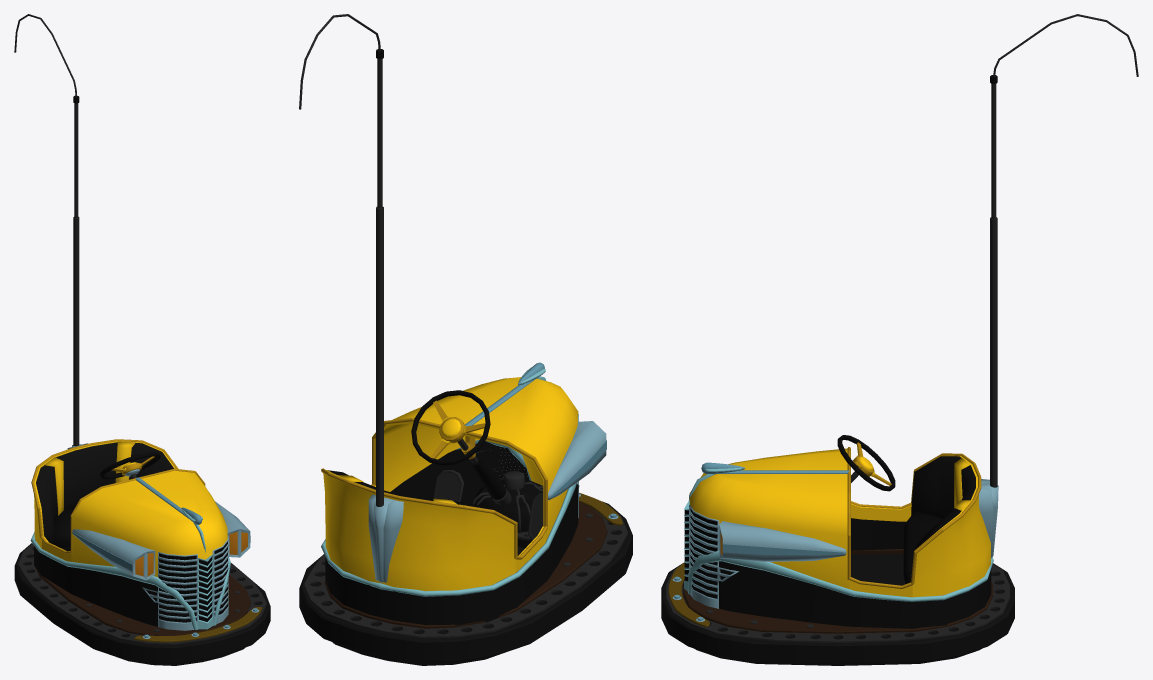
Rendered from bumper-car.obj.
3 views of the same model, side by side, from view 1: azimuth 30°, elevation 25°; view 2: azimuth 150°, elevation 25°; view 3: azimuth 270°, elevation 25° (orthographic). The views are drawn at different scales.
Parts seen in each view (by area): view 1: Box016_car456_0, Box011_hj_0, Box036_05_-_Default_0, Box023_hj_0, Line007_04_-_Default_0, Box010_12_-_Car_Paint_0, Box019_85134_0, Cylinder017_04_-_Default_0, Box031_85134_0, Loft001_656321_0, Box037_02_-_Default_0, Box043_Ce56_0 (+13 smaller); view 2: Box015_car456_0, Box016_car456_0, Box036_05_-_Default_0, Box011_hj_0, Line007_04_-_Default_0, Box010_12_-_Car_Paint_0, Cylinder017_04_-_Default_0, Box014_85134_0, Box031_85134_0, Loft001_656321_0, Cylinder024_03_-_Default_0, Shape003_03_-_Default_0 (+8 smaller); view 3: Box016_car456_0, Box036_05_-_Default_0, Box011_hj_0, Box015_car456_0, Line007_04_-_Default_0, Box010_12_-_Car_Paint_0, Box023_hj_0, Box032_85134_0, Loft002_656321_0, Cylinder017_04_-_Default_0, Box020_85134_0, Box041_hj_0 (+9 smaller).
Boxes of the visible parts, x1,y1,x2,y2 form: Box016_car456_0: (71,470,227,577); Box011_hj_0: (14,543,270,665); Box036_05_-_Default_0: (34,540,228,626); Box023_hj_0: (36,442,173,544); Line007_04_-_Default_0: (18,544,266,644); Box010_12_-_Car_Paint_0: (36,569,250,635); Box019_85134_0: (142,552,197,630); Cylinder017_04_-_Default_0: (73,216,79,446); Box031_85134_0: (72,529,155,580); Loft001_656321_0: (30,532,198,629); Box037_02_-_Default_0: (159,553,196,613); Box043_Ce56_0: (134,607,261,642); Box015_car456_0: (323,470,515,591); Box016_car456_0: (375,377,578,540); Box036_05_-_Default_0: (325,441,578,625); Box011_hj_0: (299,501,632,665); Line007_04_-_Default_0: (304,502,627,638); Box010_12_-_Car_Paint_0: (324,502,607,628); Cylinder017_04_-_Default_0: (376,206,383,506); Box014_85134_0: (368,494,403,582); Box031_85134_0: (548,421,606,499); Loft001_656321_0: (379,483,576,596); Cylinder024_03_-_Default_0: (475,479,543,532); Shape003_03_-_Default_0: (411,390,490,465); Box016_car456_0: (689,448,849,588); Box036_05_-_Default_0: (691,518,991,628); Box011_hj_0: (661,563,1014,665); Box015_car456_0: (912,455,990,597); Line007_04_-_Default_0: (666,564,1009,642); Box010_12_-_Car_Paint_0: (683,549,992,633); Box023_hj_0: (911,456,975,577); Box032_85134_0: (719,521,846,561); Loft002_656321_0: (688,550,993,601); Cylinder017_04_-_Default_0: (990,217,997,487); Box020_85134_0: (689,505,738,608); Box041_hj_0: (851,554,905,585).
Bounding box in the file's own units: 1.42 × 3.94 × 2.76.
